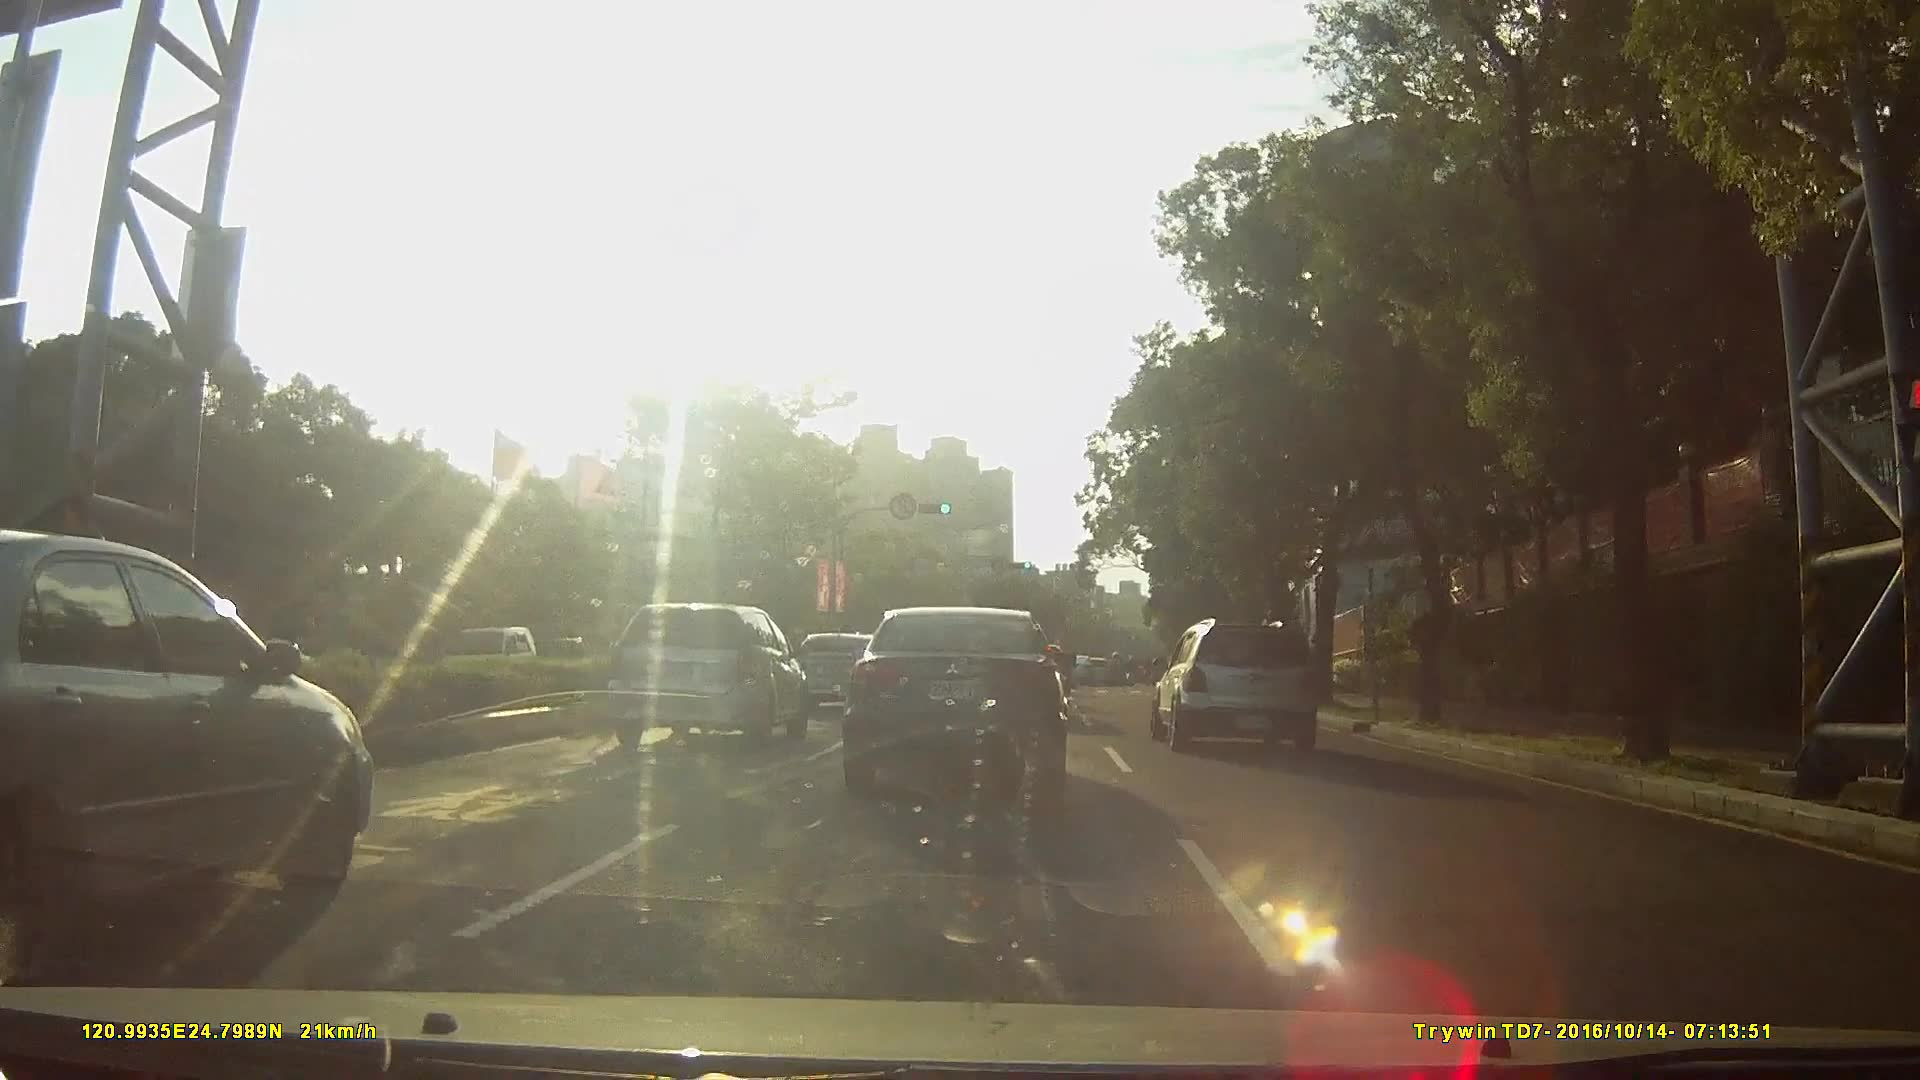vehicle: (1, 517, 385, 1004), (843, 603, 1069, 806), (603, 604, 808, 749), (1146, 616, 1329, 752), (427, 624, 545, 695), (1077, 655, 1112, 686)
